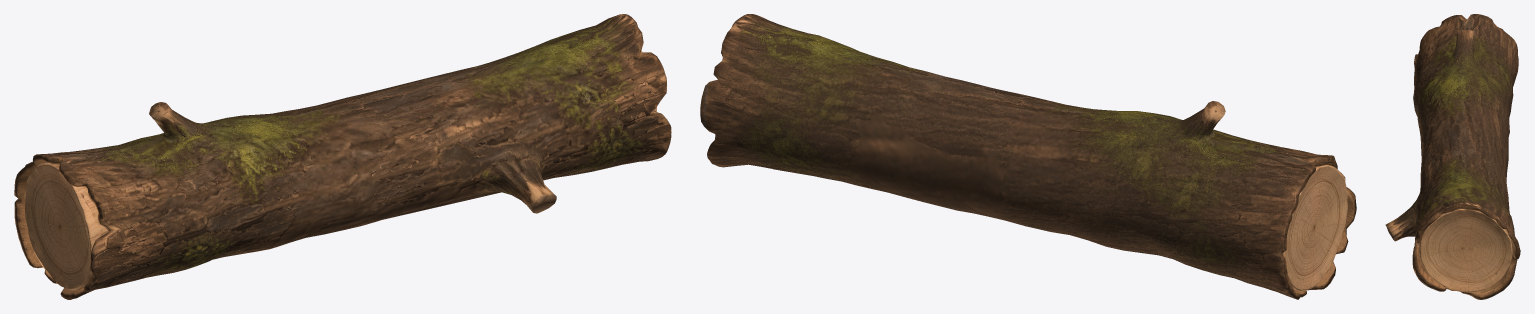
Rendered from Meshy_AI_Mossy_Fallen_Log_1026200851_texture.glb.
3 renders of one model, left to right at view 1: azimuth 30°, elevation 25°; view 2: azimuth 150°, elevation 25°; view 3: azimuth 270°, elevation 25°, orthographic. The views are drawn at different scales.
Bounding box in the file's own units: 7.19 × 2 × 2.13.
Materials: 1 (1 with a texture image).
